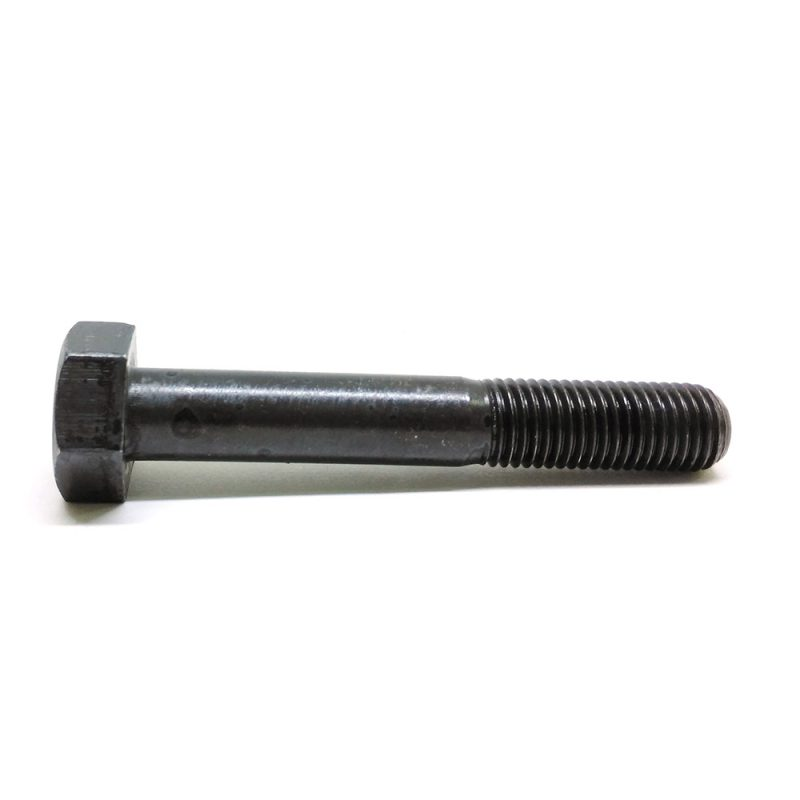screw: (51, 320, 731, 505)
